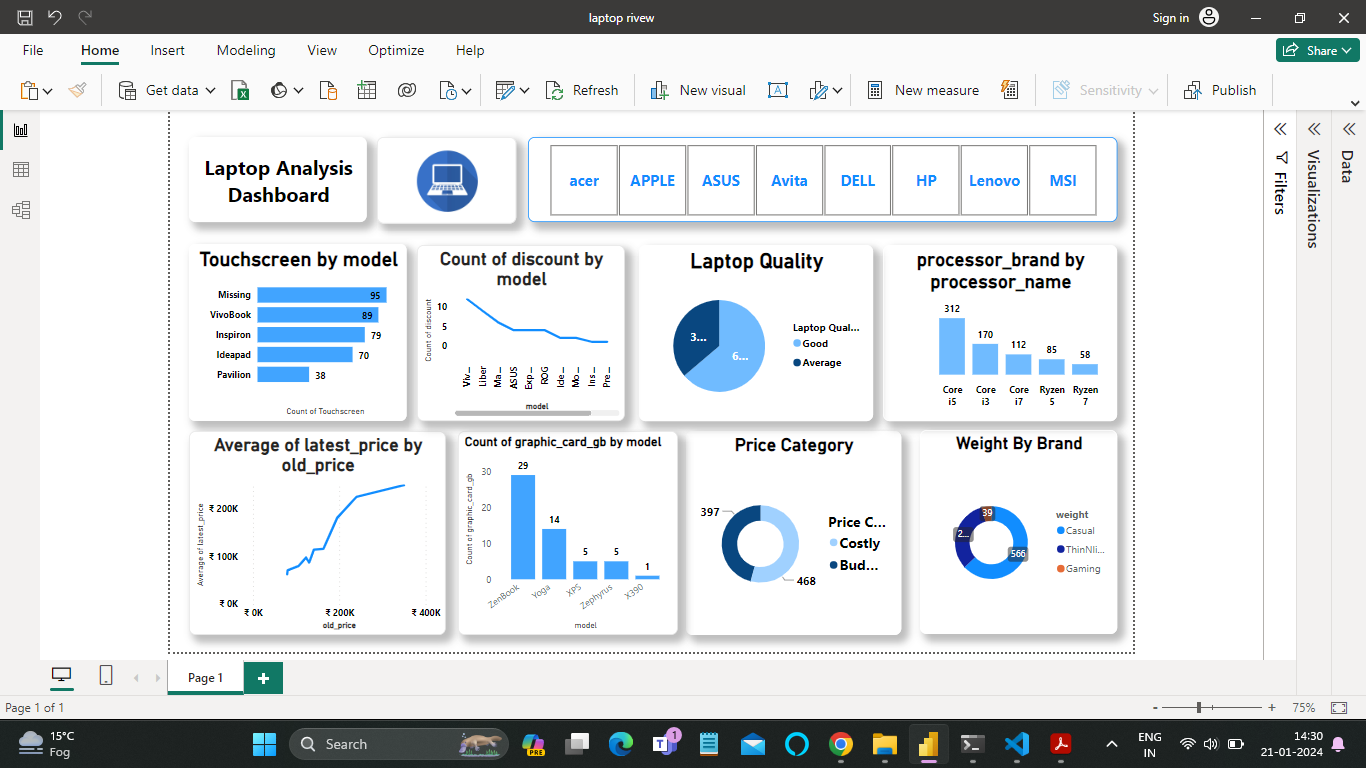

The dashboard page shown, as its layout file describes it:
{"tool":"powerbi","page":{"name":"Page 1","canvas":[1280,720],"ordinal":0},"visuals":[{"type":"donutChart","title":" Price Category","fields":{"Category":["Cleaned_Laptop_data.Price Category"],"Y":["Cleaned_Laptop_data.model"]},"box":[685.5,426.4,285.6,271],"z":0},{"type":"pieChart","title":"Laptop Quality","fields":{"Category":["Cleaned_Laptop_data.Laptop Quality"],"Y":["Cleaned_Laptop_data.ratings"]},"box":[622.4,179,311.2,234.2],"z":1000},{"type":"columnChart","title":"processor_brand by processor_name","fields":{"Category":["Cleaned_Laptop_data.processor_name"],"Y":["Cleaned_Laptop_data.processor_brand"]},"box":[947,179,311.2,234.2],"z":2000},{"type":"barChart","title":" Touchscreen by model","fields":{"Category":["Cleaned_Laptop_data.model"],"Y":["Cleaned_Laptop_data.Touchscreen"]},"box":[25.3,178.4,289.4,234.6],"z":3000},{"type":"donutChart","title":"Weight By Brand","fields":{"Category":["Cleaned_Laptop_data.weight"],"Y":["Cleaned_Laptop_data.brand"]},"box":[996.3,425.1,261.7,271],"z":4000},{"type":"shape","box":[25.3,35.4,235.8,112.8],"z":5000},{"type":"image","box":[274.5,35.4,185.3,114.5],"z":6000},{"type":"lineChart","fields":{"Y":["Cleaned_Laptop_data.latest_price"],"Category":["Cleaned_Laptop_data.old_price"]},"box":[25.2,426.4,341.4,271],"z":7000},{"type":"slicer","fields":{"Values":["Cleaned_Laptop_data.brand"]},"box":[474.9,35.4,783.2,112.8],"z":8000},{"type":"clusteredColumnChart","fields":{"Y":["Cleaned_Laptop_data.graphic_card_gb"],"Category":["Cleaned_Laptop_data.model"]},"box":[382.6,426.4,292.3,271],"z":9000},{"type":"lineChart","fields":{"Y":["Cleaned_Laptop_data.discount"],"Category":["Cleaned_Laptop_data.model"]},"box":[327.9,179,276.1,234.2],"z":10000}]}

Visuals, with their boxes on the page's 1280x720 design canvas (x1, y1, x2, y2). These are canvas units, not pixel positions in the 1366x768 screenshot, which may show the page scaled, cropped or inside an application window:
" Price Category" donutChart: <bbox>686, 426, 971, 697</bbox>
"Laptop Quality" pieChart: <bbox>622, 179, 934, 413</bbox>
"processor_brand by processor_name" columnChart: <bbox>947, 179, 1258, 413</bbox>
" Touchscreen by model" barChart: <bbox>25, 178, 315, 413</bbox>
"Weight By Brand" donutChart: <bbox>996, 425, 1258, 696</bbox>
shape: <bbox>25, 35, 261, 148</bbox>
image: <bbox>274, 35, 460, 150</bbox>
lineChart - Cleaned_Laptop_data.latest_price x Cleaned_Laptop_data.old_price: <bbox>25, 426, 367, 697</bbox>
slicer - Cleaned_Laptop_data.brand: <bbox>475, 35, 1258, 148</bbox>
clusteredColumnChart - Cleaned_Laptop_data.graphic_card_gb x Cleaned_Laptop_data.model: <bbox>383, 426, 675, 697</bbox>
lineChart - Cleaned_Laptop_data.discount x Cleaned_Laptop_data.model: <bbox>328, 179, 604, 413</bbox>
